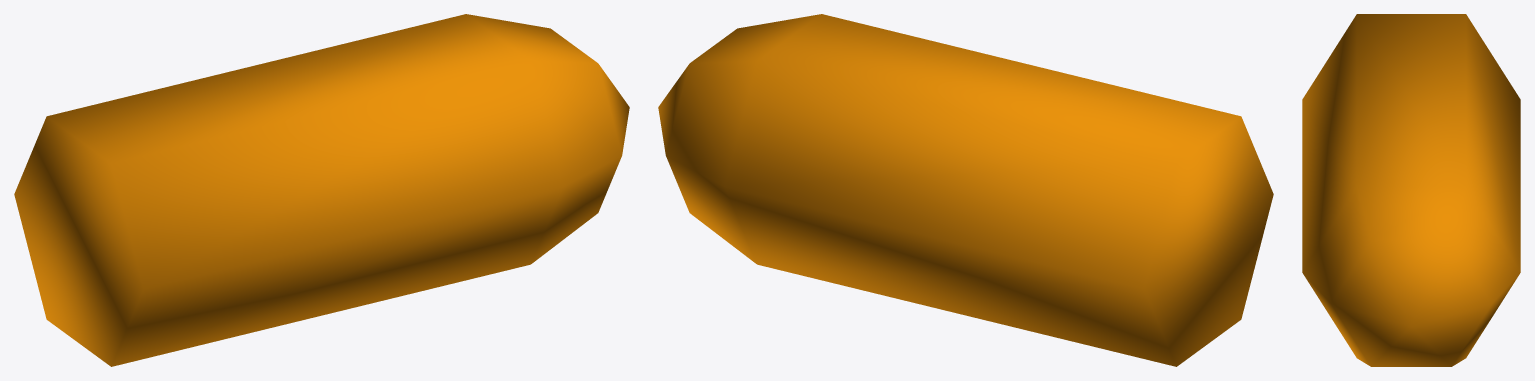
3 views of the same model, side by side, from view 1: azimuth 30°, elevation 25°; view 2: azimuth 150°, elevation 25°; view 3: azimuth 270°, elevation 25° (orthographic). The views are drawn at different scales.
Visible parts, largest first — view 1: 9mm; view 2: 9mm; view 3: 9mm.
Part boxes in pixels (left/top/right/bottom): 9mm: left=14, top=14, right=629, bottom=366; 9mm: left=658, top=14, right=1273, bottom=366; 9mm: left=1302, top=14, right=1520, bottom=366.
Size of the model in its own units: 0.2066 by 0.0729 by 0.0841.
